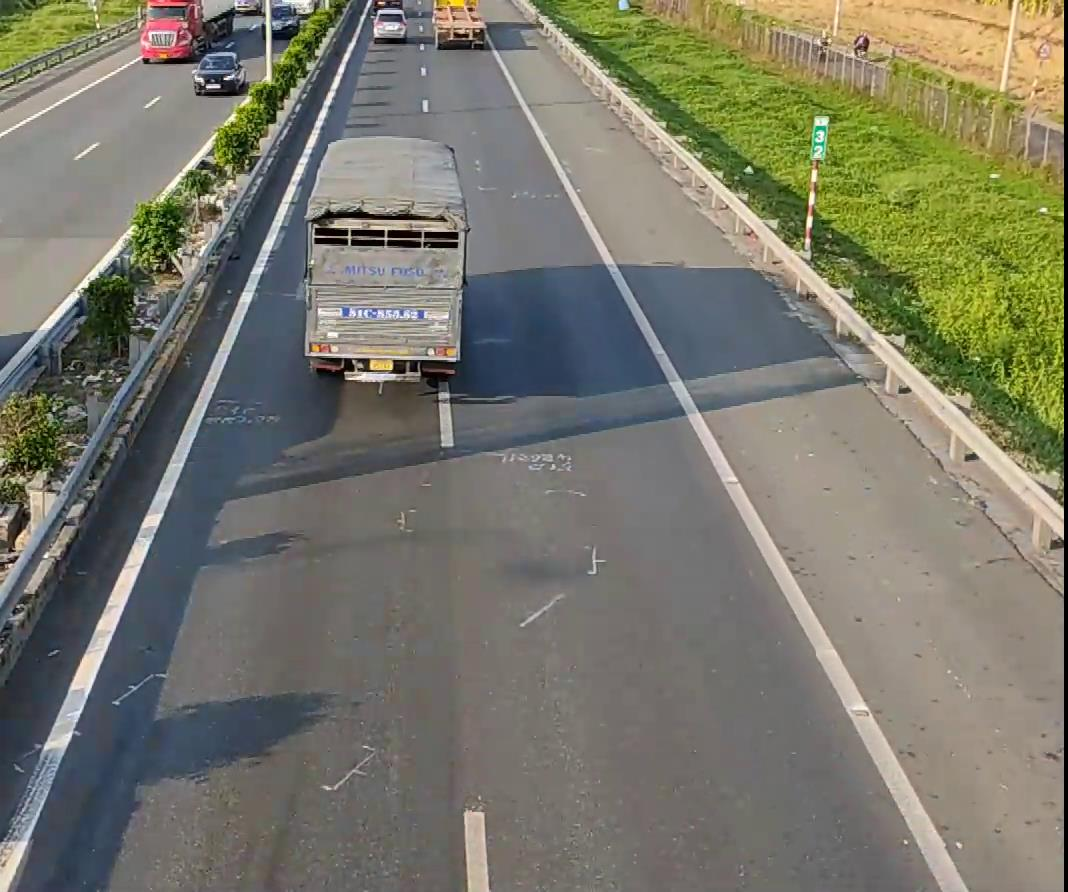truck: (298, 126, 468, 386), (138, 0, 205, 62)
